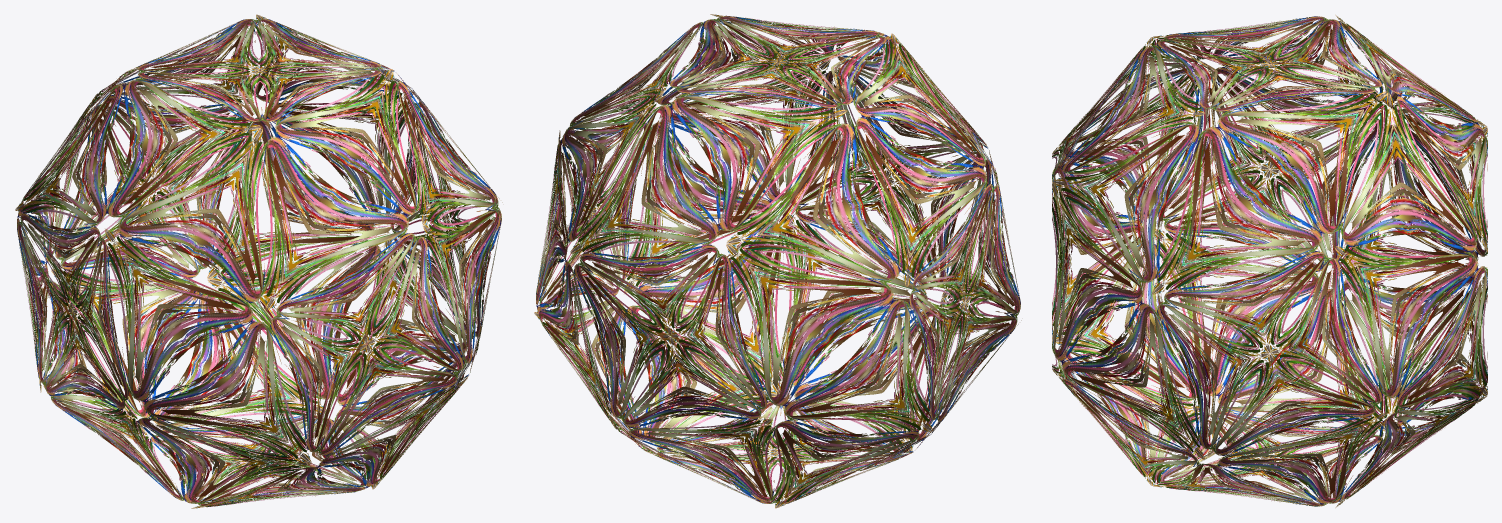
File: SnubCube9.gltf
The picture shows the model from 3 angles, left to right: view 1: azimuth 30°, elevation 25°; view 2: azimuth 150°, elevation 25°; view 3: azimuth 270°, elevation 25°; orthographic projection.
Visible parts, largest first — view 1: SnubCube9; view 2: SnubCube9; view 3: SnubCube9.
Boxes of the visible parts, bbox=[...] form: SnubCube9: bbox=[15, 14, 502, 508]; SnubCube9: bbox=[534, 14, 1021, 508]; SnubCube9: bbox=[1052, 15, 1487, 507].
Bounding box in the file's own units: 2.29 × 2.29 × 2.29.
Materials: 1 (1 with a texture image).
